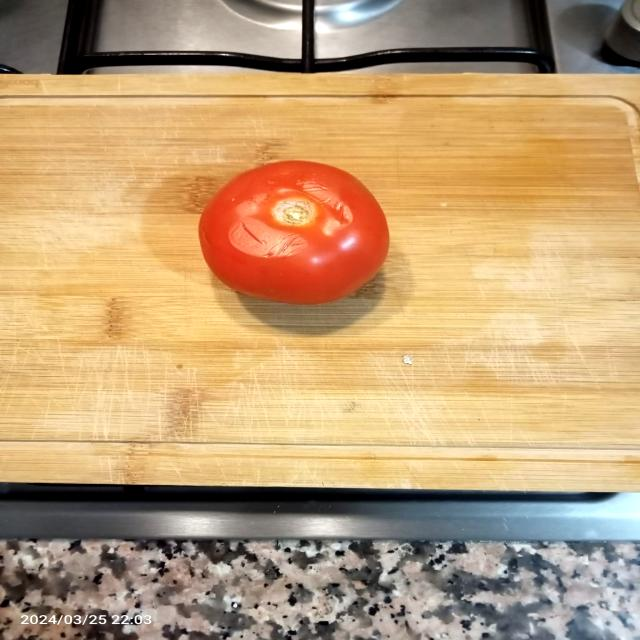tomato: (174, 150, 420, 314)
